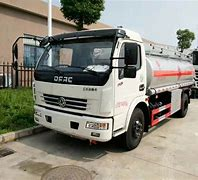oil truck: (7, 14, 194, 151)
